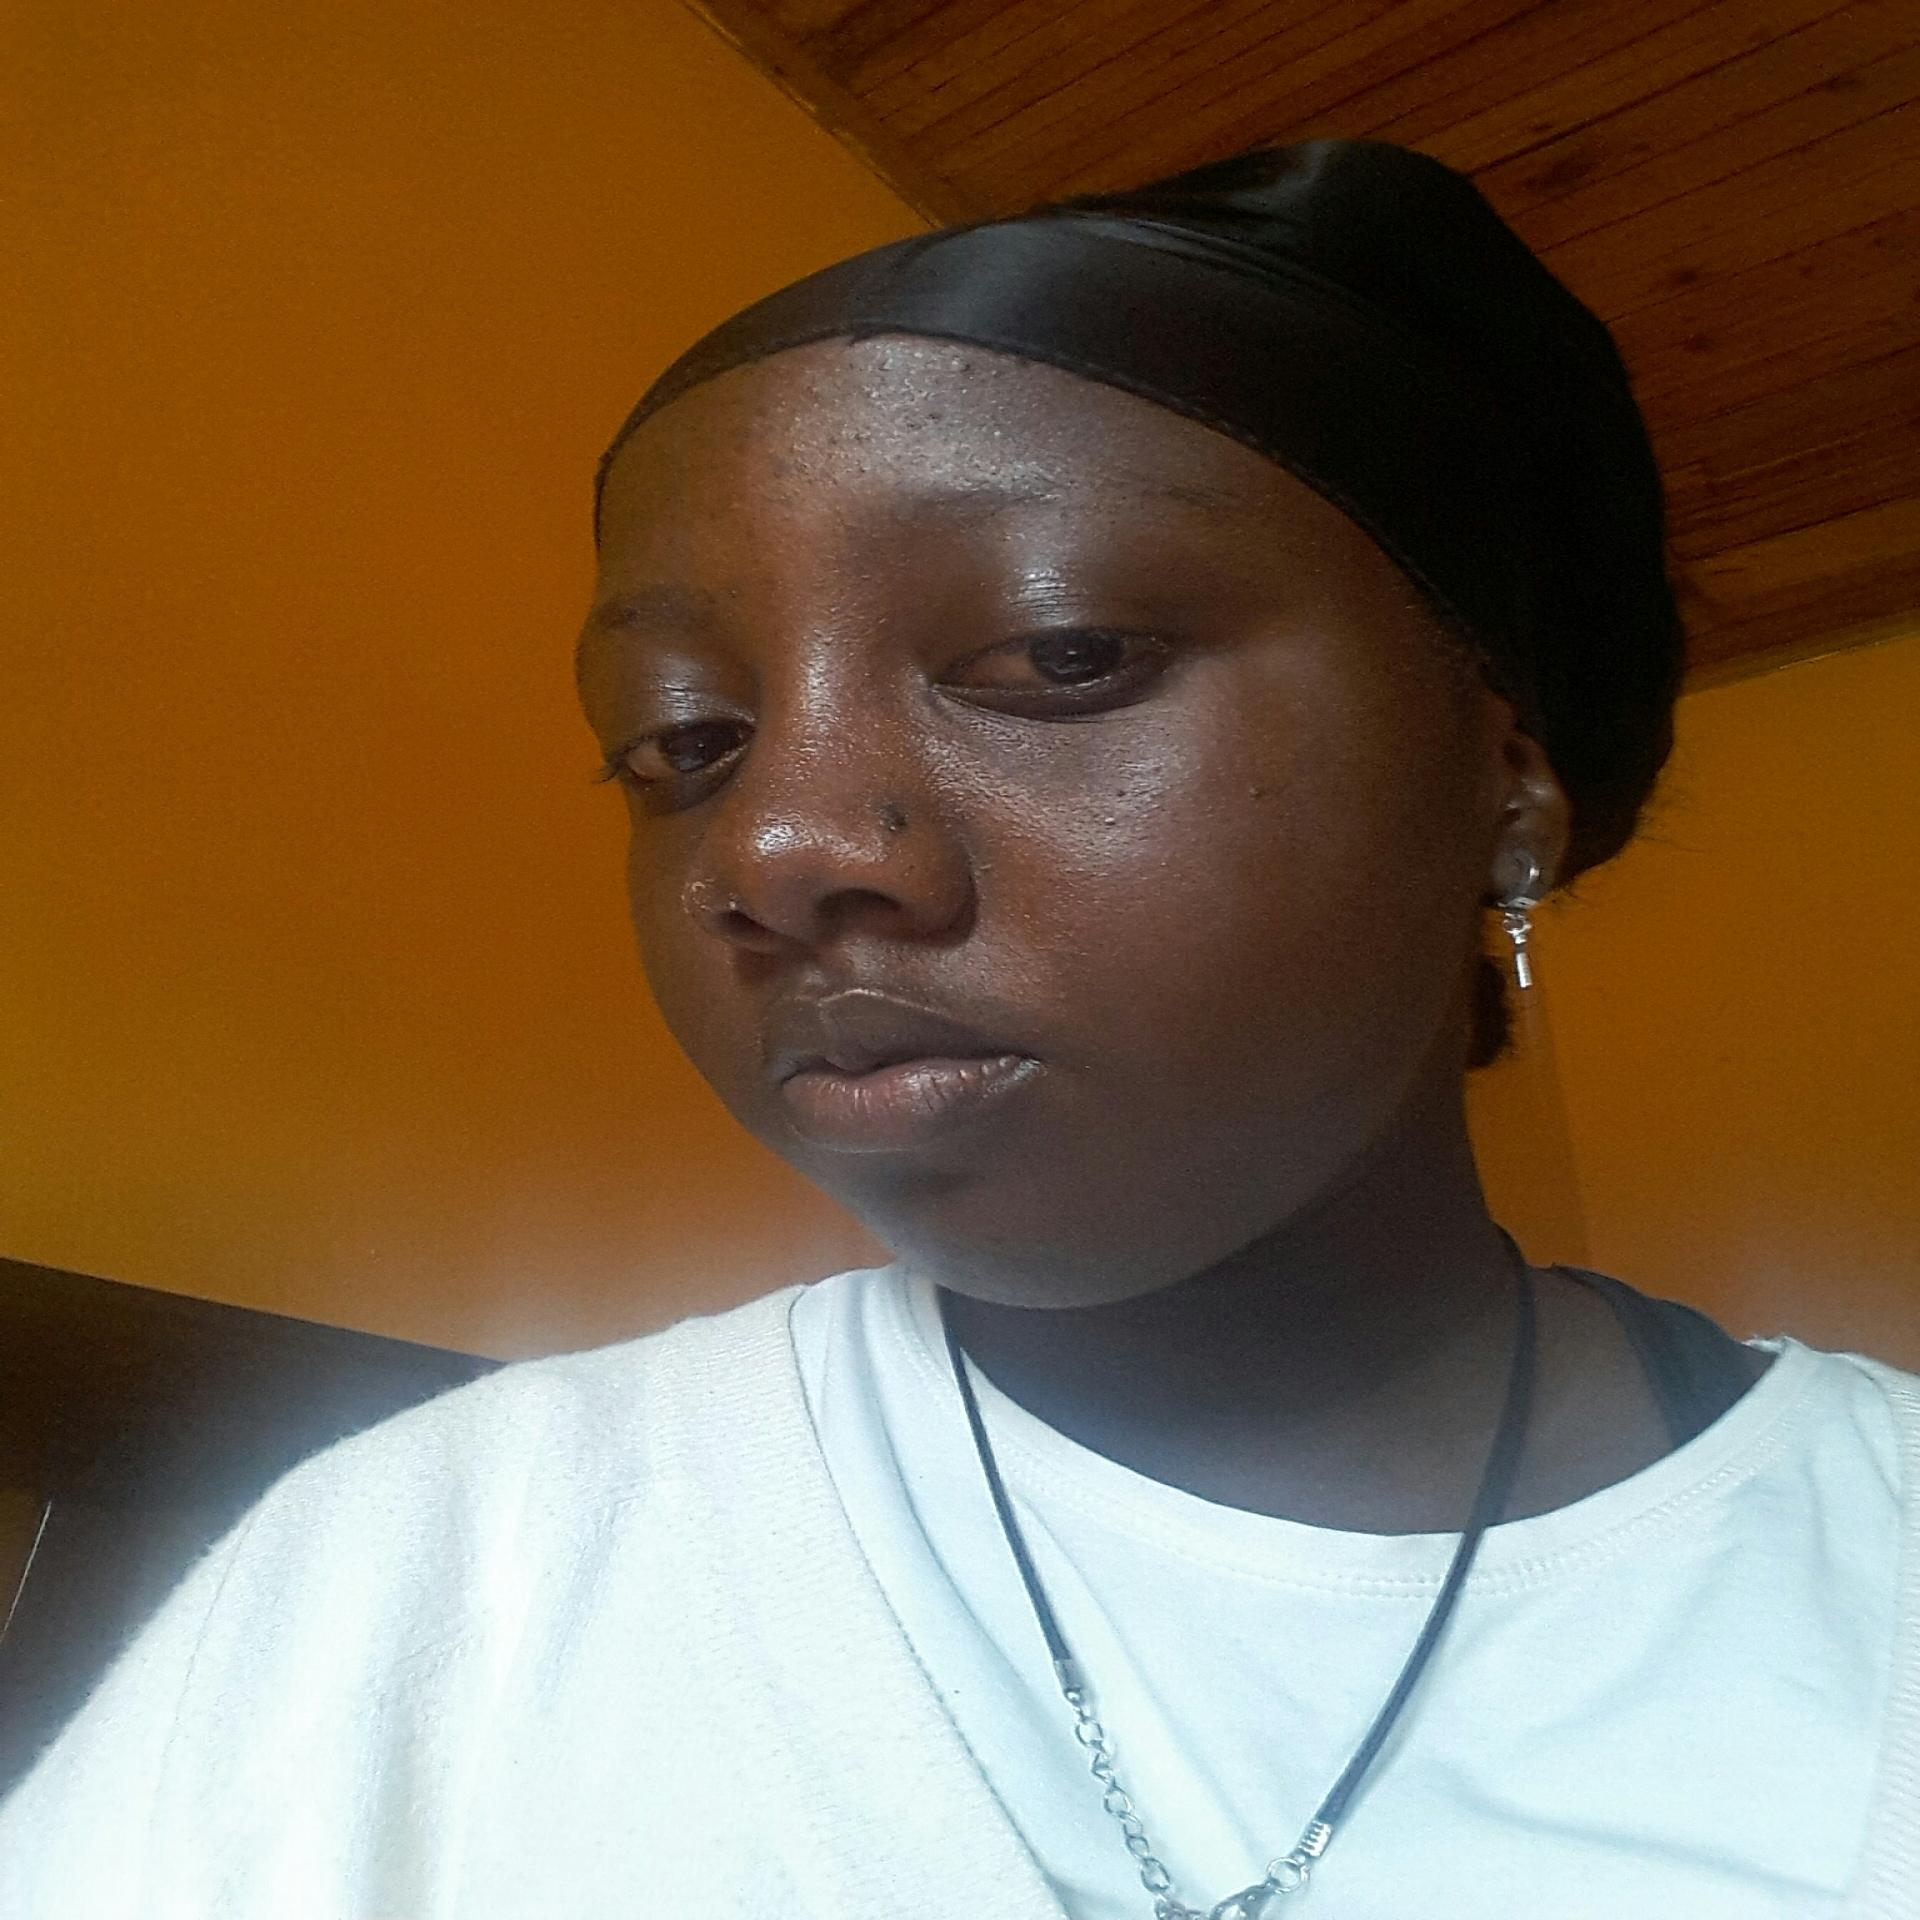Acne: (858, 795, 921, 839), (768, 450, 818, 487), (902, 404, 946, 436), (941, 352, 979, 378), (717, 496, 753, 520), (749, 397, 784, 420), (855, 380, 886, 404), (1240, 779, 1275, 798), (872, 353, 907, 373), (844, 459, 876, 480), (723, 582, 751, 601), (1095, 811, 1120, 832), (849, 425, 874, 447), (802, 380, 826, 397), (788, 410, 809, 425), (1109, 784, 1131, 798)
